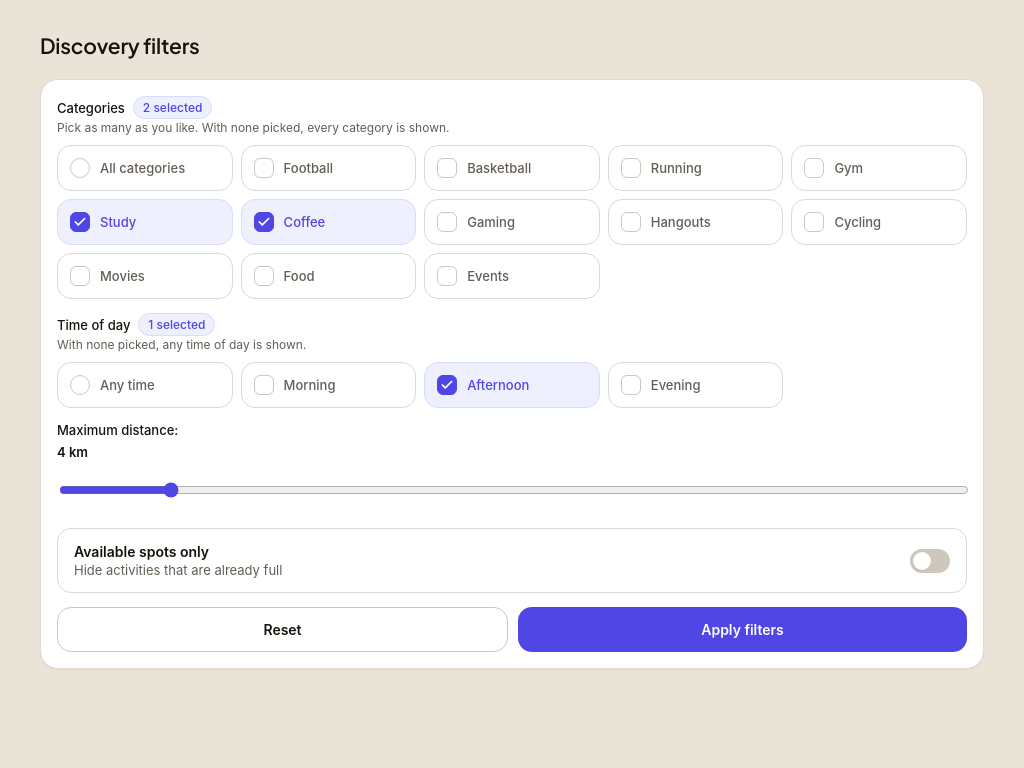
Test: Reset clears both sets, puts the distance and the switch back, and applies at once
What coordinates should you click on to do the following:
click the button "Reset"
I would click on:
 (282, 630)
Its box is [57,607,508,652].
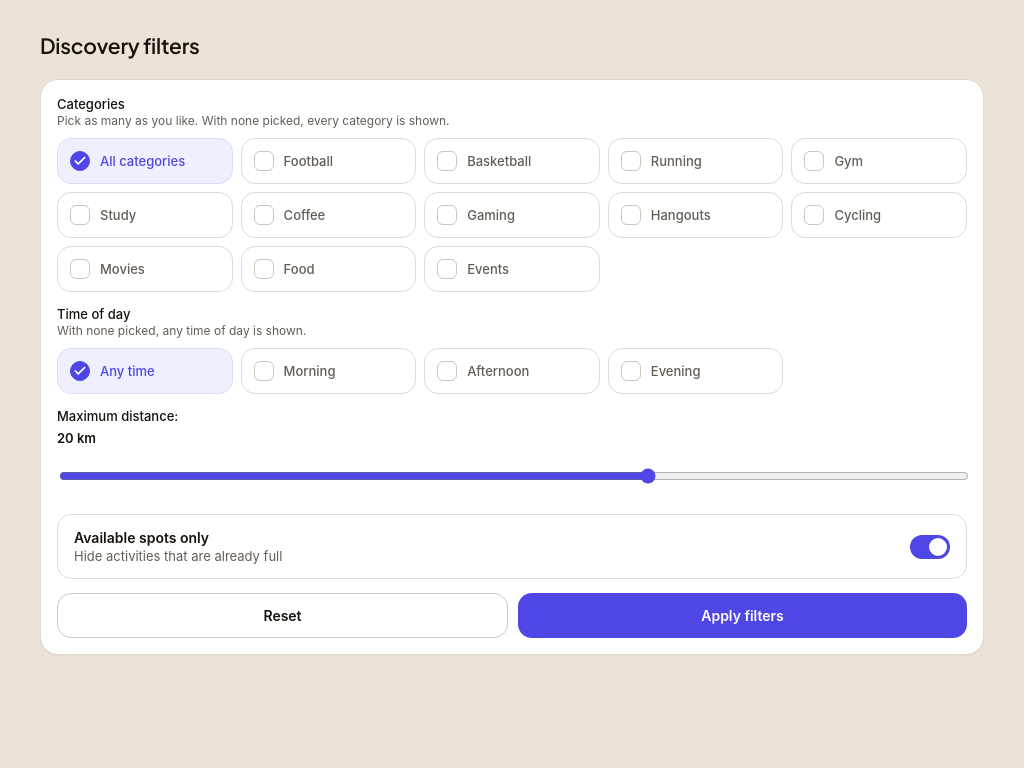
Expected: the button "All categories" is shown, [57,138,233,184]
Now the slider holds "20", box [59,454,969,498]
